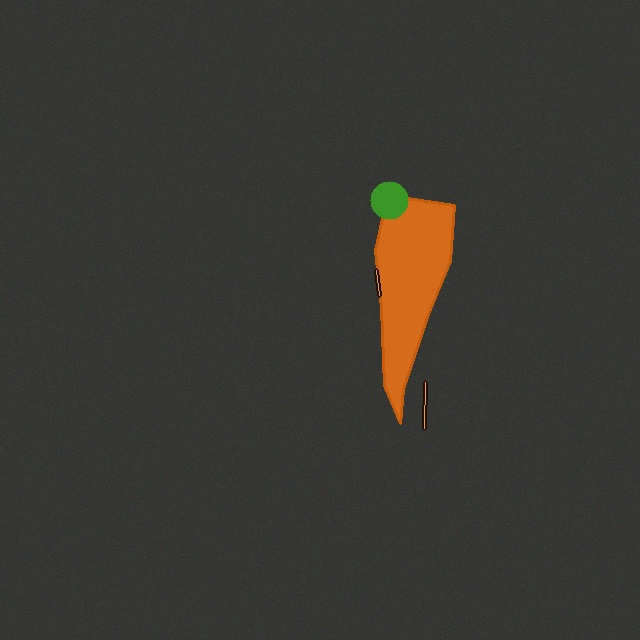Damaged_Carrot: (367, 187, 462, 431)
